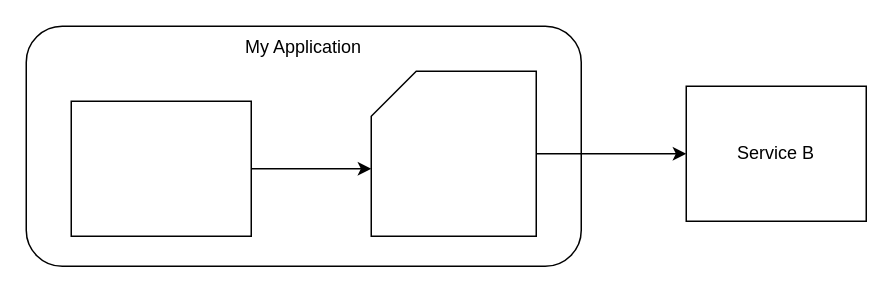
Some shapes in this 893 by 293 pixel diagram are drawn without their labels. The shapes that lost their labels are listed below. From the top down, each one's box as (x1, y1, x2, y2) in pixels, then its label:
(70, 100, 251, 236): Service A
(370, 70, 536, 236): Sidecar as ambassador
